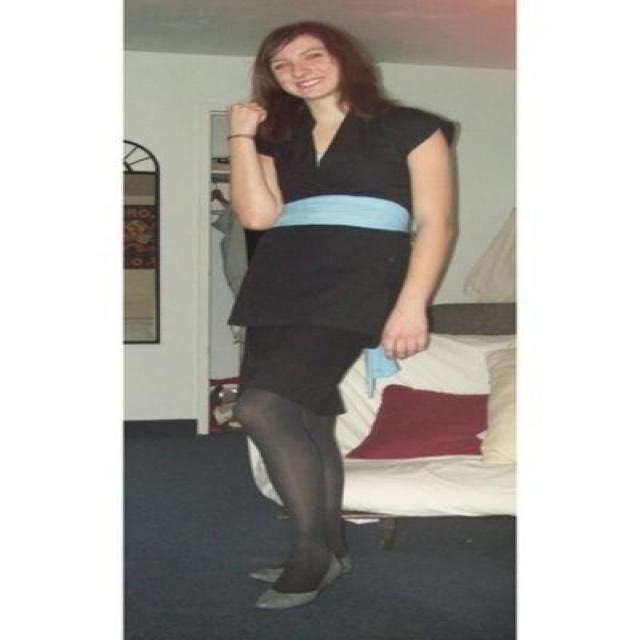bag: (346, 347, 400, 387)
dress: (226, 100, 456, 413)
shoe: (243, 556, 363, 611)
